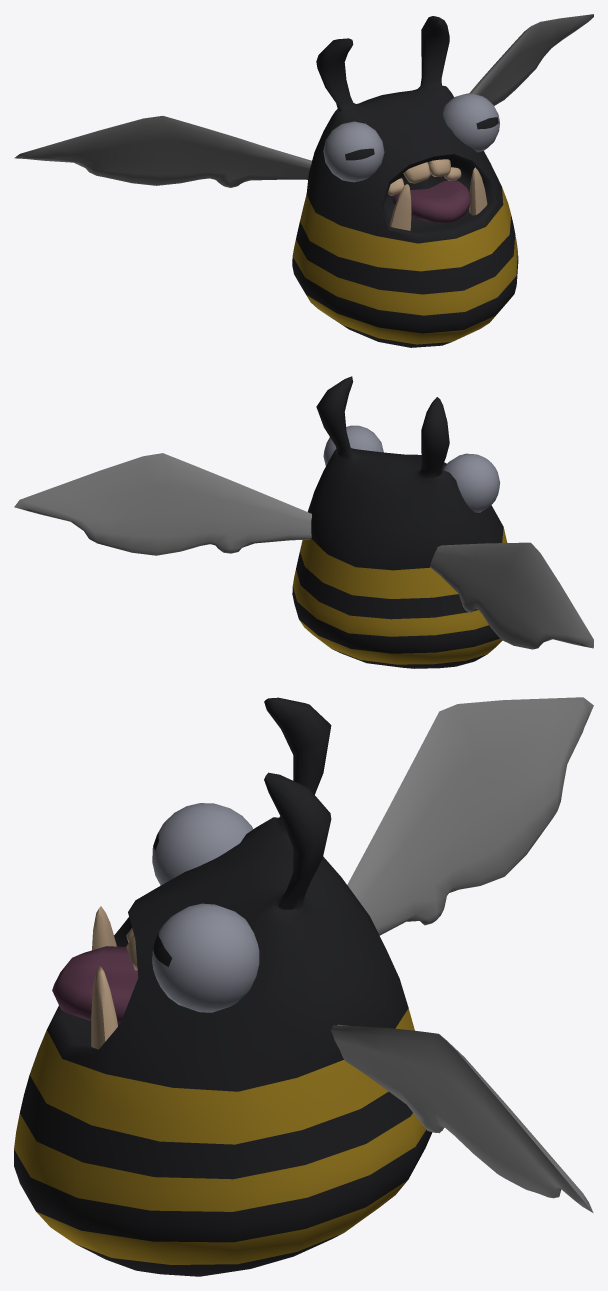
The model's file is q_armabee_evolved.glb.
3 views of the same model, one above another, from view 1: azimuth 30°, elevation 25°; view 2: azimuth 150°, elevation 25°; view 3: azimuth 270°, elevation 25° (orthographic). The views are drawn at different scales.
Parts seen in each view (by area): view 1: Armabee_Evolved_b; view 2: Armabee_Evolved_b; view 3: Armabee_Evolved_b.
Boxes of the visible parts, box(x1,y1,x2,y2) form: Armabee_Evolved_b: box(14, 14, 593, 347); Armabee_Evolved_b: box(14, 376, 593, 668); Armabee_Evolved_b: box(14, 697, 593, 1276).
Size of the model in its own units: 2.1 by 1 by 1.02.
